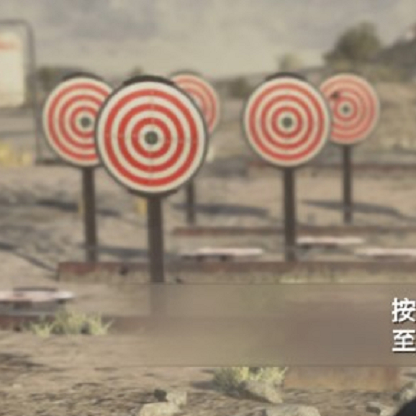target: (94, 75, 209, 198), (240, 73, 332, 170), (39, 74, 92, 168)
